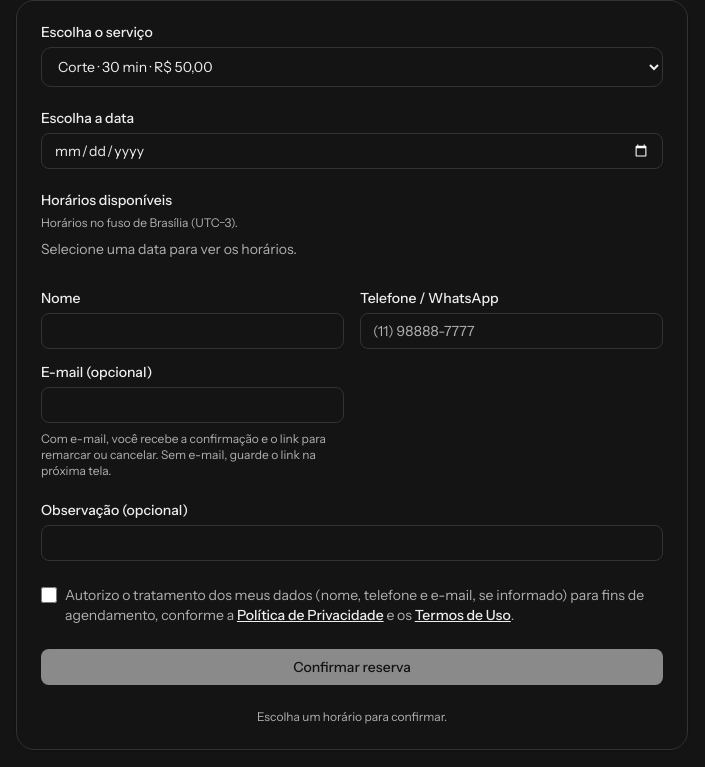
BookingWidget › says the serviço is no longer available when it was turned off with the page open
Step 1. Type "2026-10-20" into the date field labelled "Escolha a data" → (352,151), box [41,133,663,169]
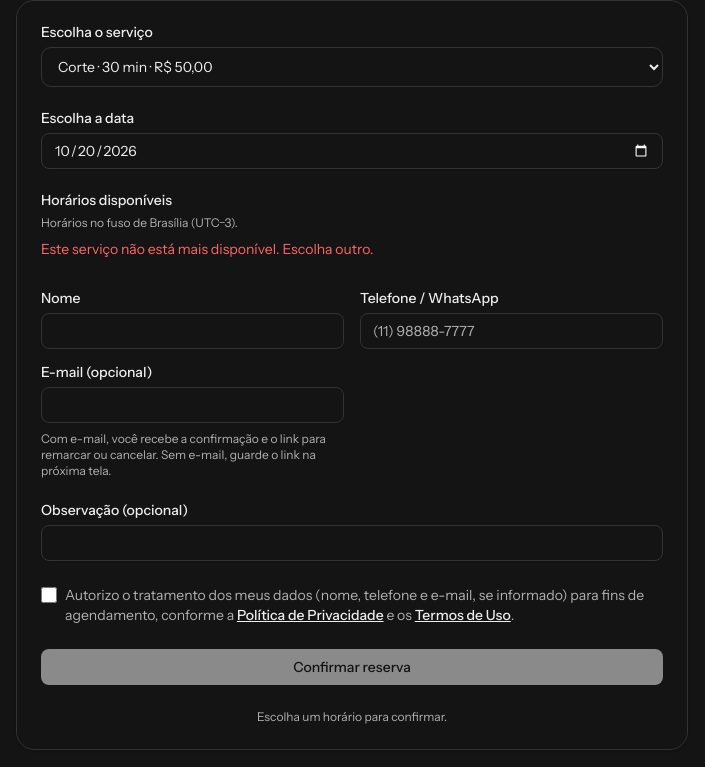
Expected: the text "Este serviço não está mais disponível. Escolha outro." is shown, [41,240,373,258]
